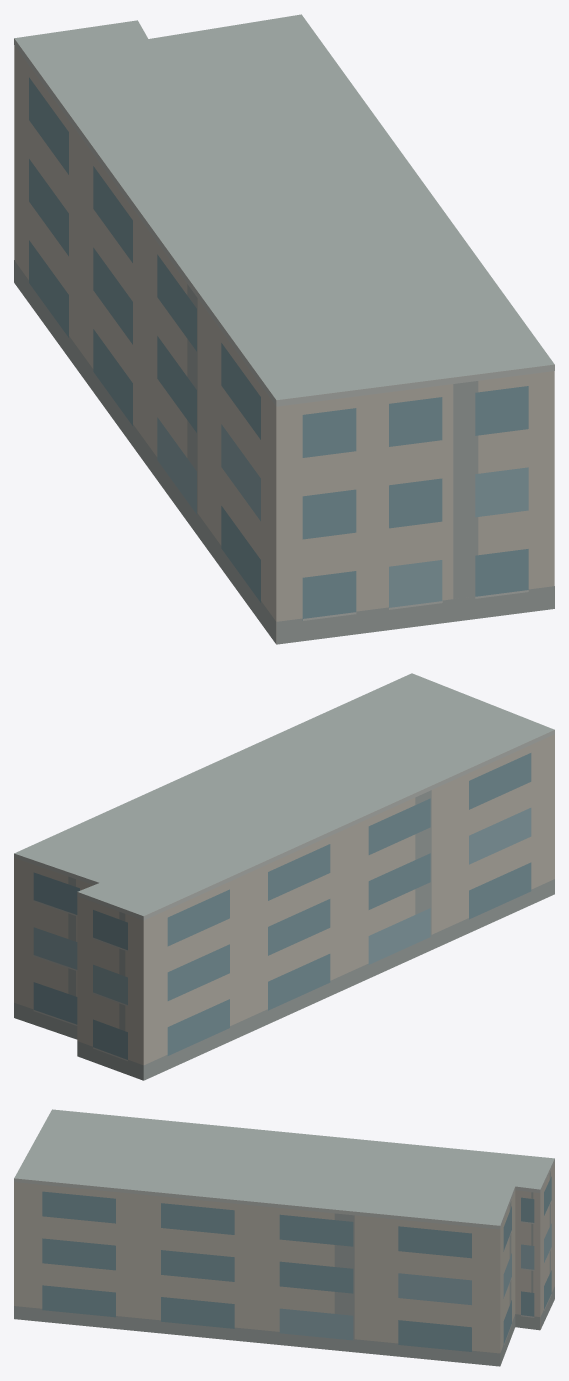
File: survey-upis-32585655.glb
3 renders of one model, top to bottom at view 1: azimuth 30°, elevation 25°; view 2: azimuth 150°, elevation 25°; view 3: azimuth 270°, elevation 25°, orthographic. The views are drawn at different scales.
Parts seen in each view (by area): view 1: survey-upis-32585655.tmp; view 2: survey-upis-32585655.tmp; view 3: survey-upis-32585655.tmp.
Part boxes in pixels (left/top/right/bottom): survey-upis-32585655.tmp: left=14, top=14, right=554, bottom=644; survey-upis-32585655.tmp: left=14, top=673, right=554, bottom=1080; survey-upis-32585655.tmp: left=14, top=1109, right=554, bottom=1366.
Size of the model in its own units: 16.25 by 9.15 by 31.89.
